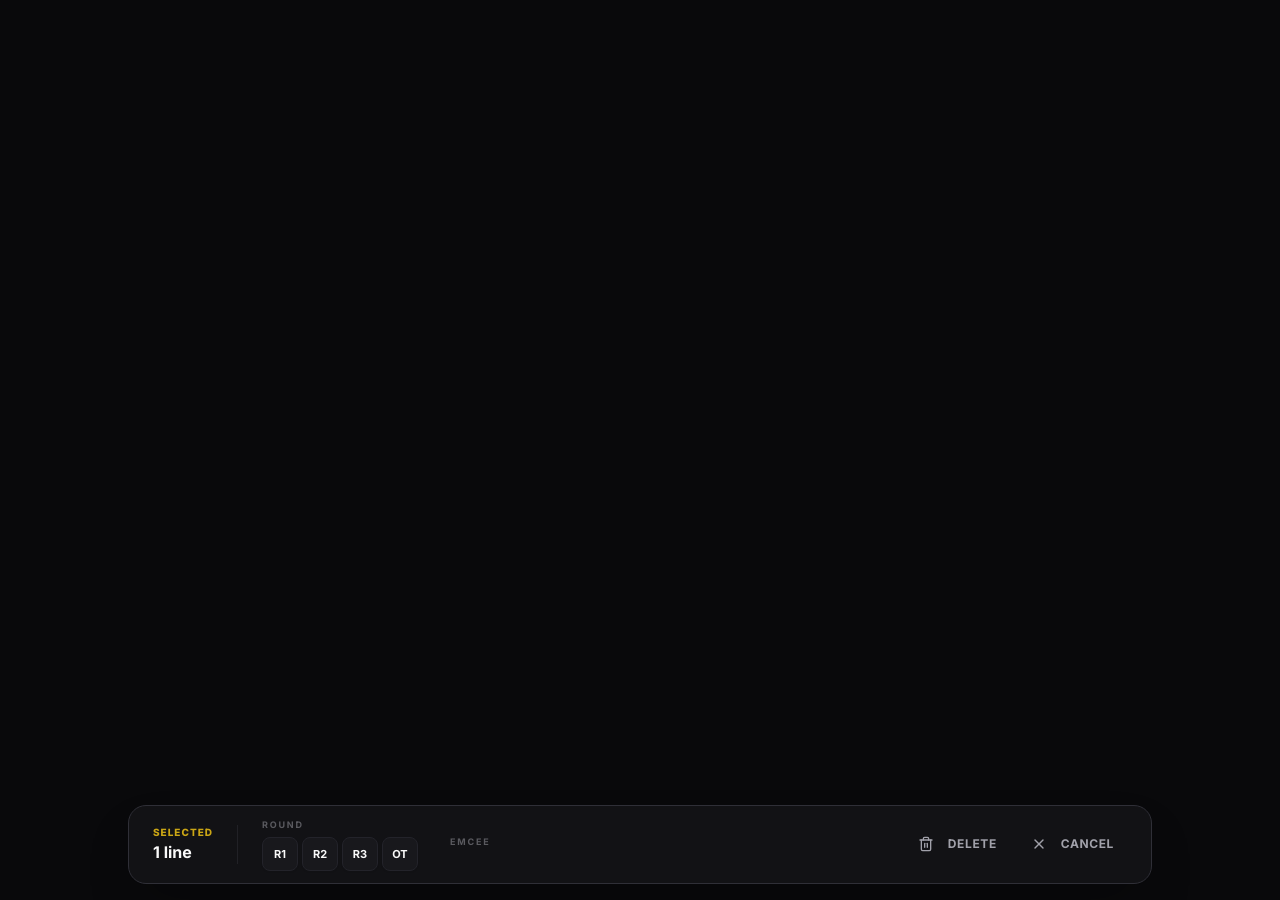
BatchActionBar › shows delete confirmation dialog when Delete is clicked
The width and height of the screenshot is (1280, 900).
Click the button "Delete".
click(957, 844)  # box [905, 826, 1010, 862]
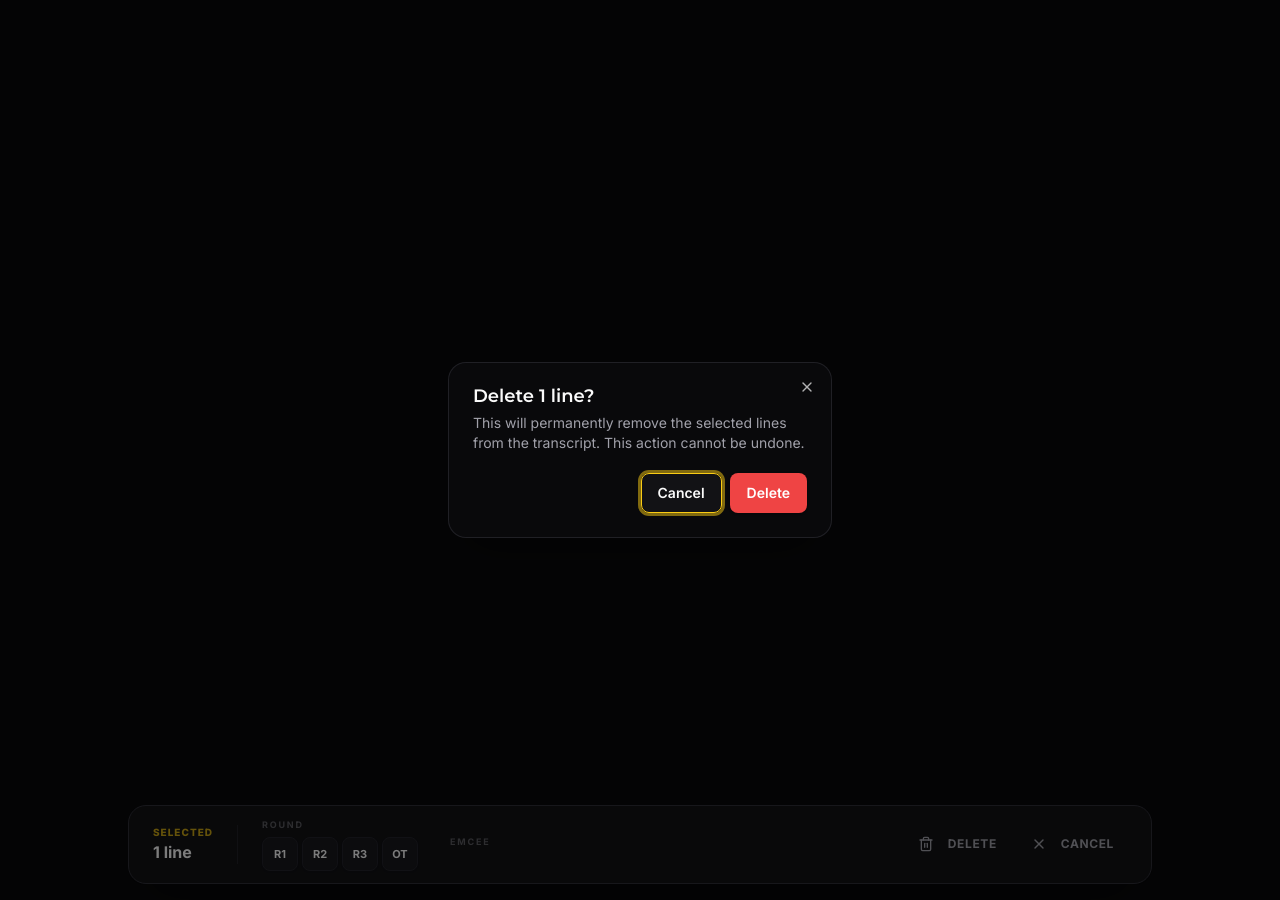
Expected: the heading "Delete 1 line?" is shown, [473, 385, 595, 407]
